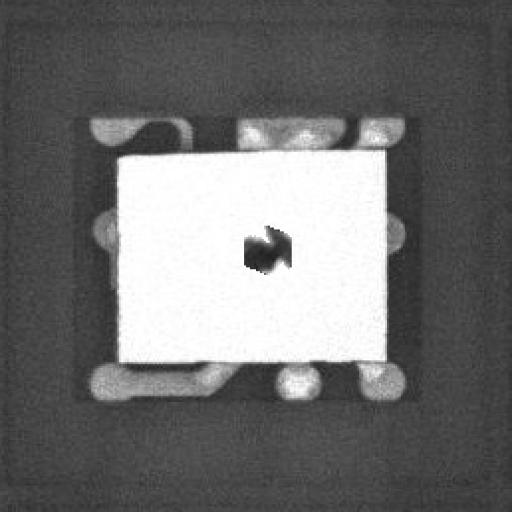DIE_INK: (242, 216, 294, 271)
